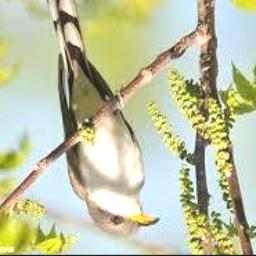Cuckoo: (40, 0, 161, 234)
